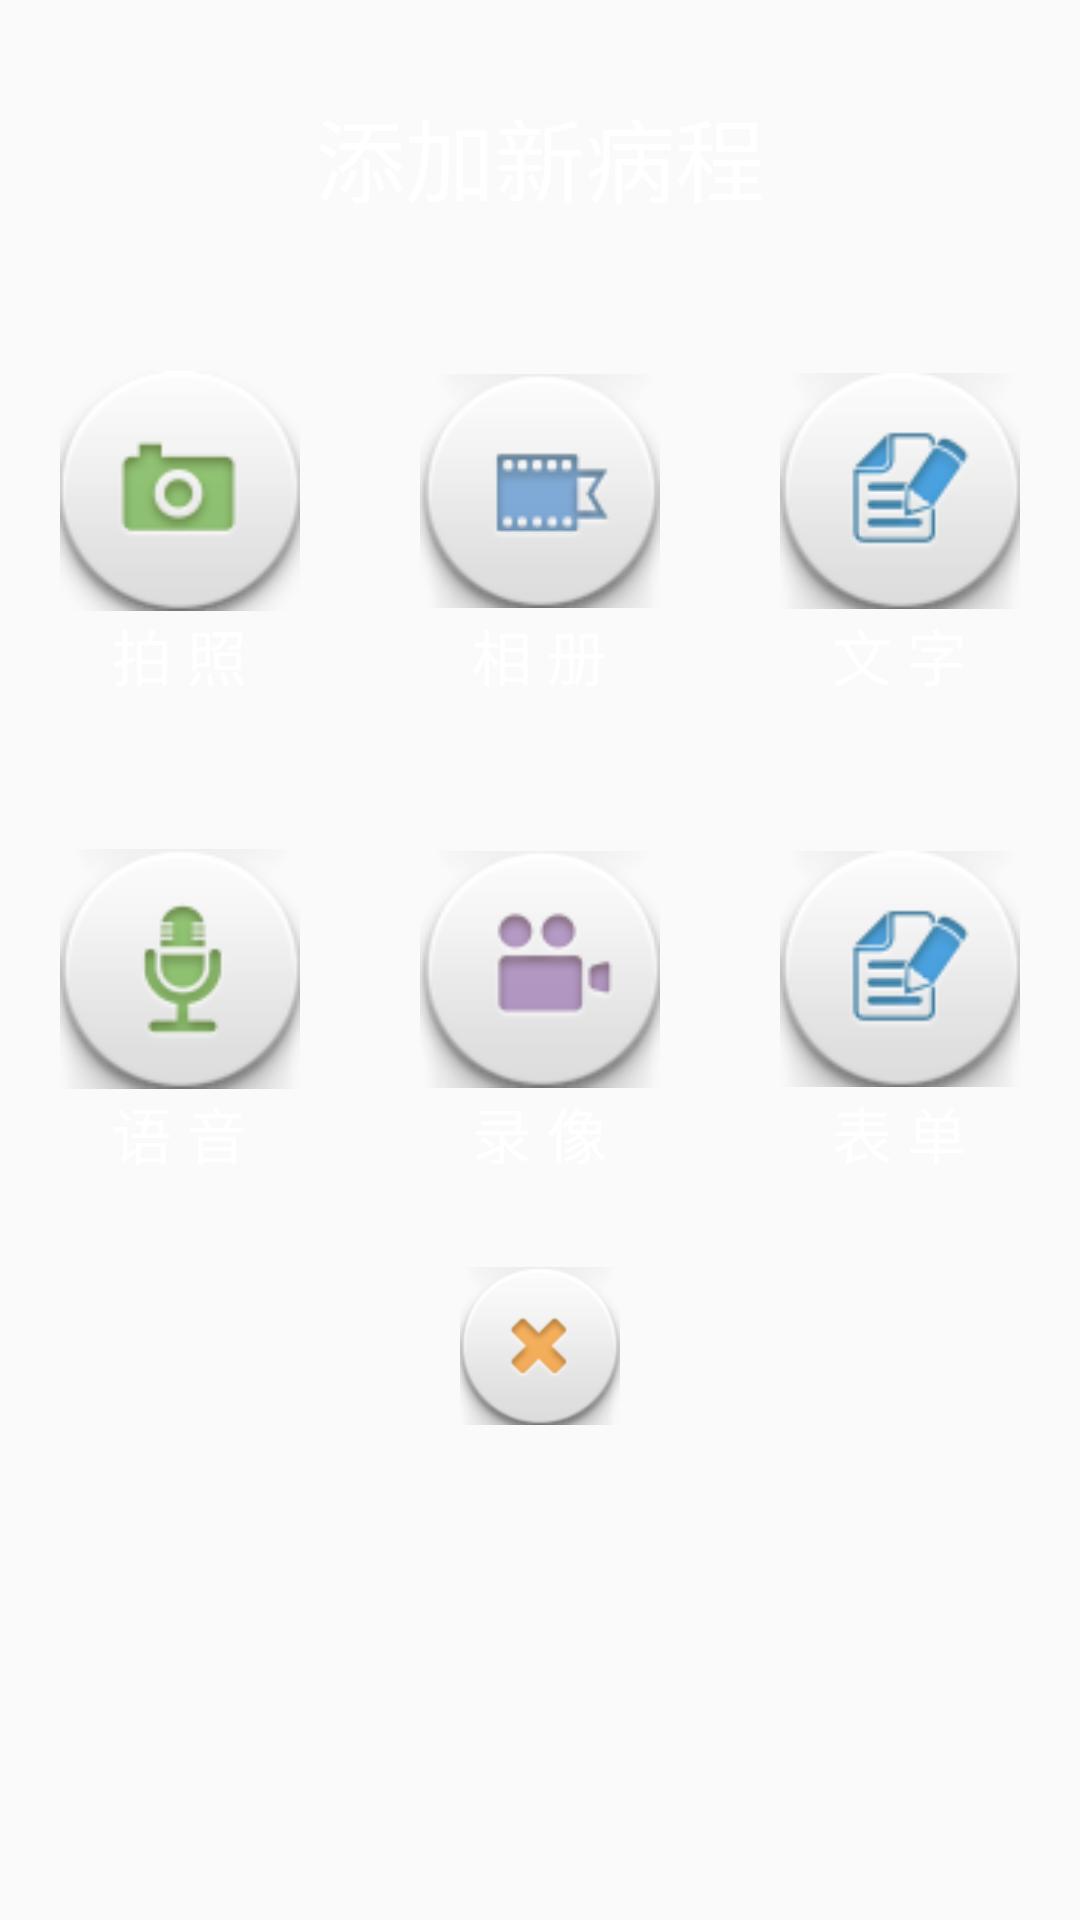

Point at icon controls on the screen. Image size 1080 × 1920, points as (x,y).
cancel: (540,1371)
caseinfo: (900,520), (900,998)
